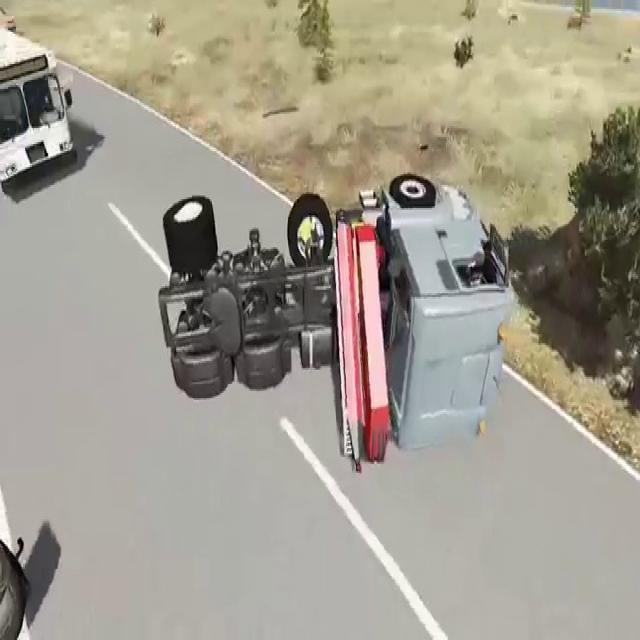severe: (154, 163, 514, 468)
